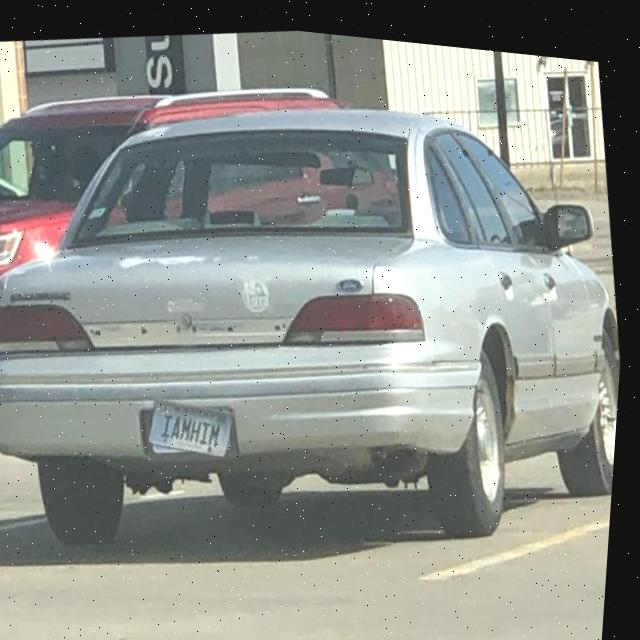LicensePlate: (153, 395, 240, 454)
